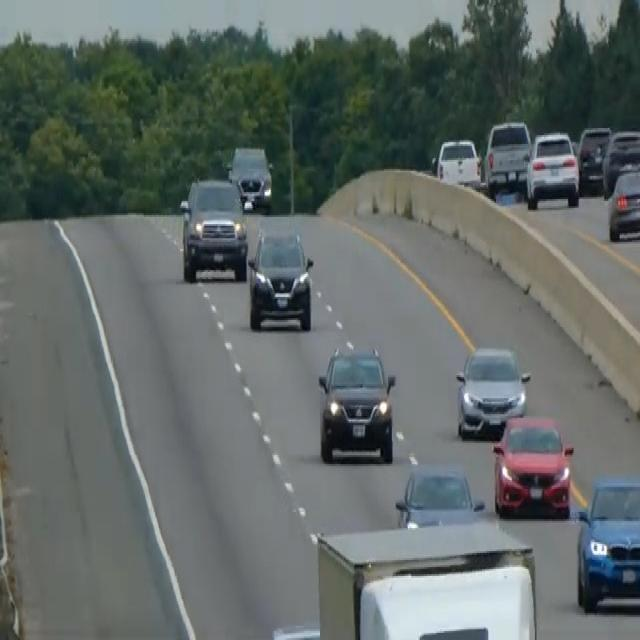car: (574, 471, 639, 613), (491, 413, 574, 519), (454, 341, 530, 439), (246, 222, 314, 331), (394, 460, 485, 528), (525, 128, 580, 208), (483, 118, 532, 196), (228, 142, 273, 212), (606, 160, 639, 242), (601, 128, 639, 197), (431, 135, 481, 187), (577, 123, 611, 192)
jeep: (315, 338, 398, 466), (178, 174, 249, 283)
lorry: (314, 519, 539, 638)
